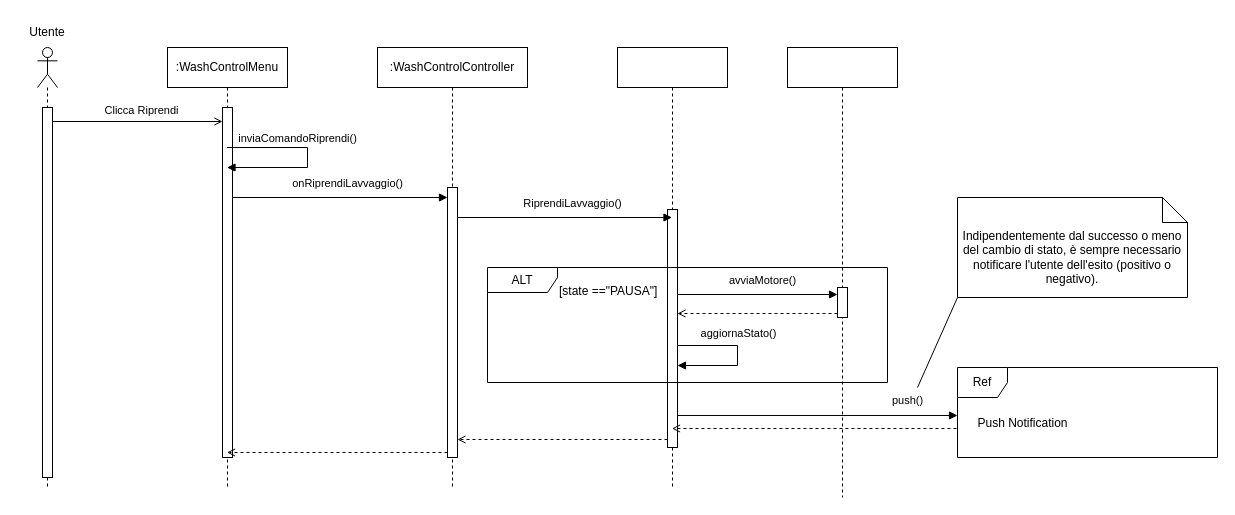
This 1235x515 diagram has some shape labels left out. The shapes that lost their labels are listed below. From the top down, each one's box as (x1, y1, x2, y2) in pixels, then its label:
(616, 46, 728, 488): :WashingManager
(786, 46, 898, 498): :LavatriceHardware
